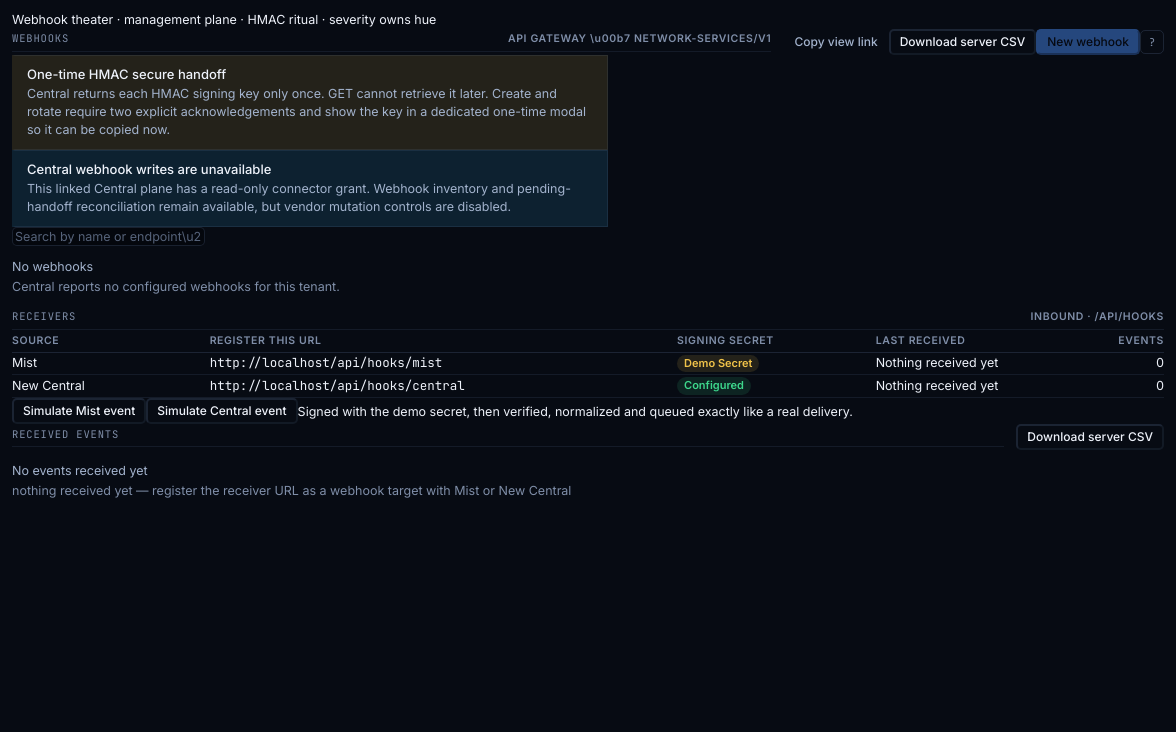
the demo simulate path › posts the fixture through the receiver and refreshes status and events
Step 1. Click the button "Simulate Mist event" → (79, 411), box [12, 398, 146, 424]
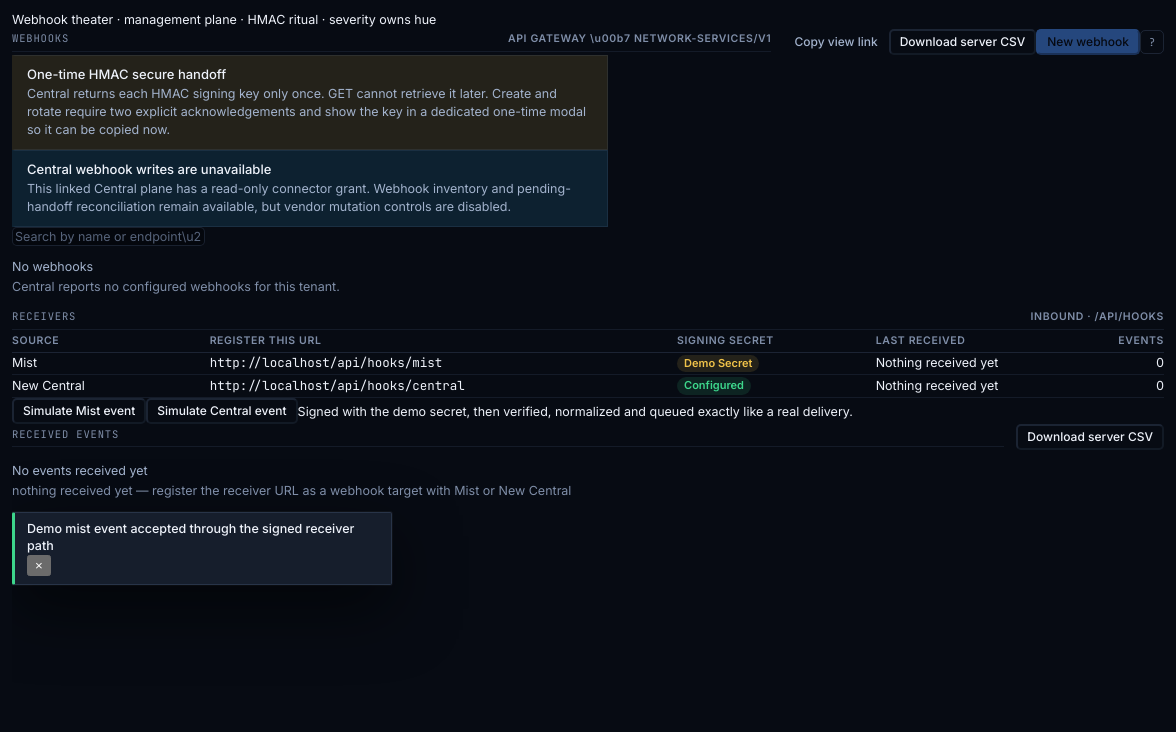
Expected: the text "Demo mist event accepted through the signed receiver path" is shown, [27, 521, 379, 555]
